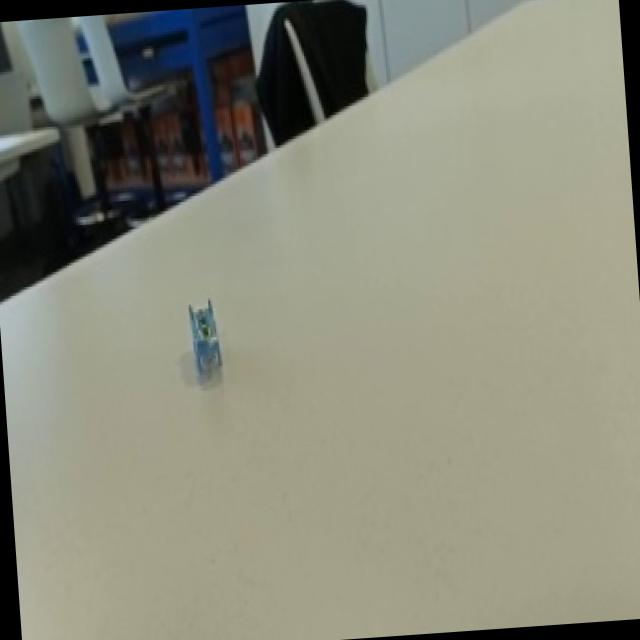3_NanoBug_Celeste: (165, 281, 243, 393)
